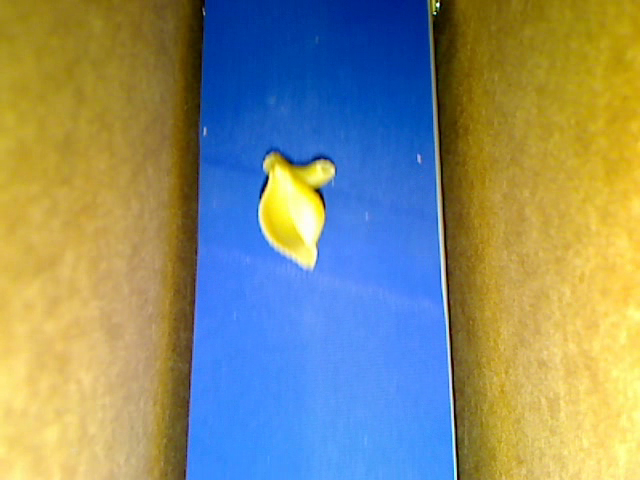elbow: (263, 152, 334, 187)
shell: (257, 164, 326, 269)
